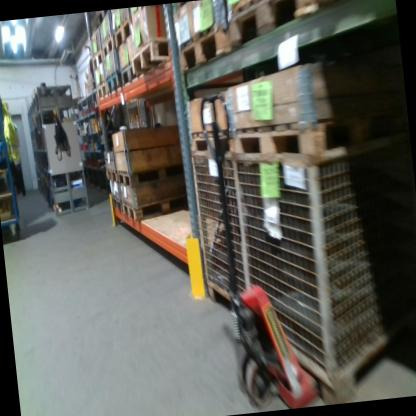pallet: (229, 110, 372, 167), (221, 0, 328, 58), (172, 23, 230, 79), (120, 186, 187, 221), (129, 32, 172, 78), (116, 161, 184, 187), (189, 127, 236, 162), (112, 15, 135, 50), (119, 59, 139, 92), (104, 68, 125, 97), (100, 32, 116, 61), (90, 44, 104, 69), (109, 190, 122, 214), (95, 79, 108, 102), (103, 164, 116, 182)
pallet_truck: (195, 81, 326, 415)
stillage: (231, 125, 416, 409), (190, 141, 250, 316)
